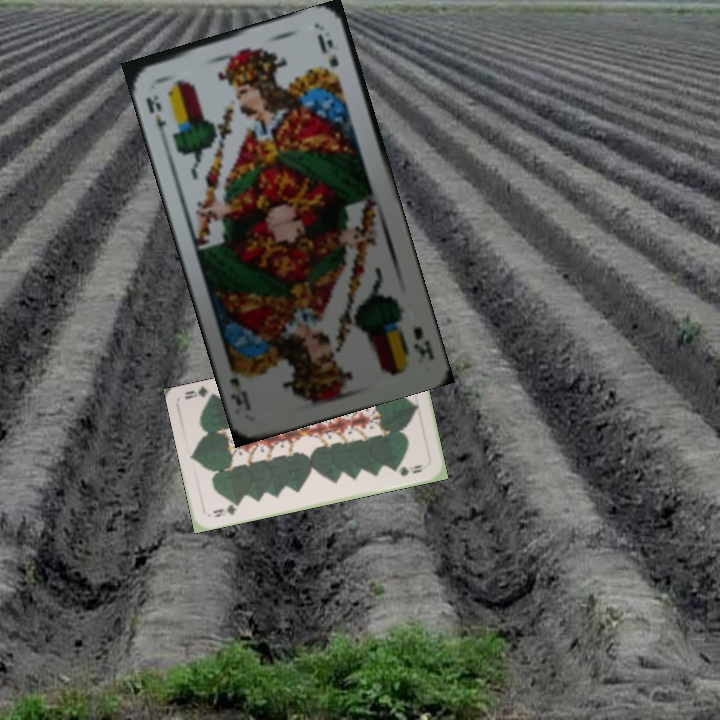EK: (142, 90, 168, 139), (409, 322, 436, 364)
G9: (209, 499, 244, 520)
